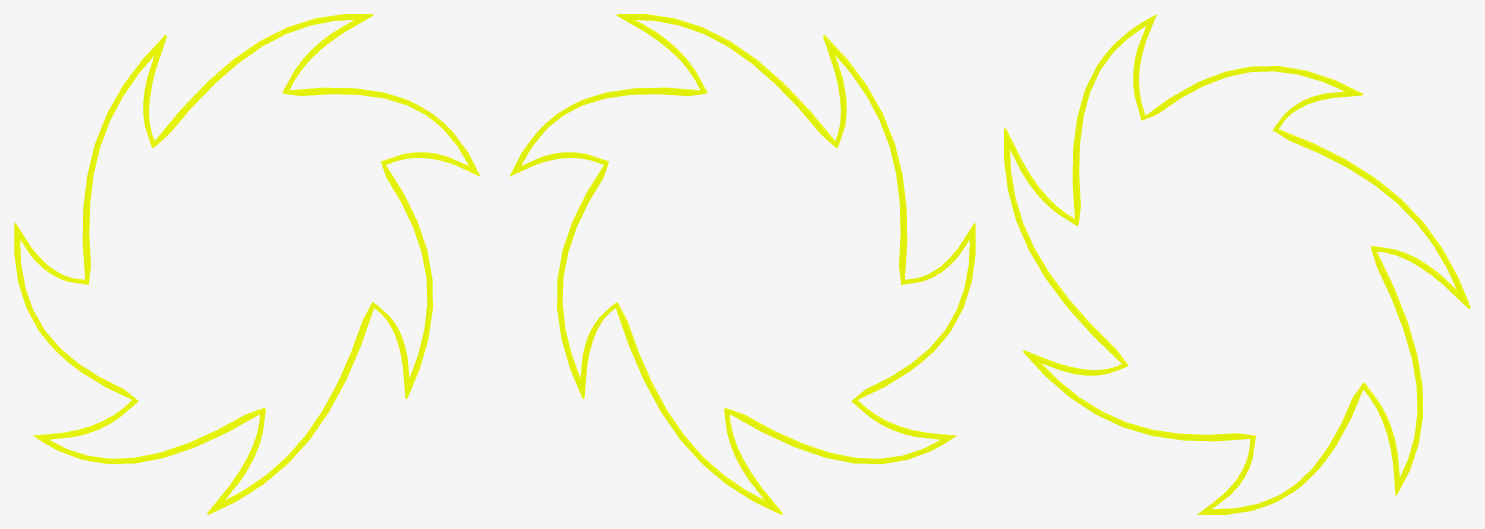
The model's file is portal.glb.
3 renders of one model, left to right at view 1: azimuth 30°, elevation 25°; view 2: azimuth 150°, elevation 25°; view 3: azimuth 330°, elevation 25°, orthographic.
Parts seen in each view (by area): view 1: Body2; view 2: Body2; view 3: Body2.
Boxes of the visible parts, left/top/right/bottom form: Body2: left=14, top=14, right=480, bottom=514; Body2: left=509, top=14, right=975, bottom=514; Body2: left=1004, top=14, right=1470, bottom=514.
Size of the model in its own units: 0.1451 by 0.1457 by 0.001.
